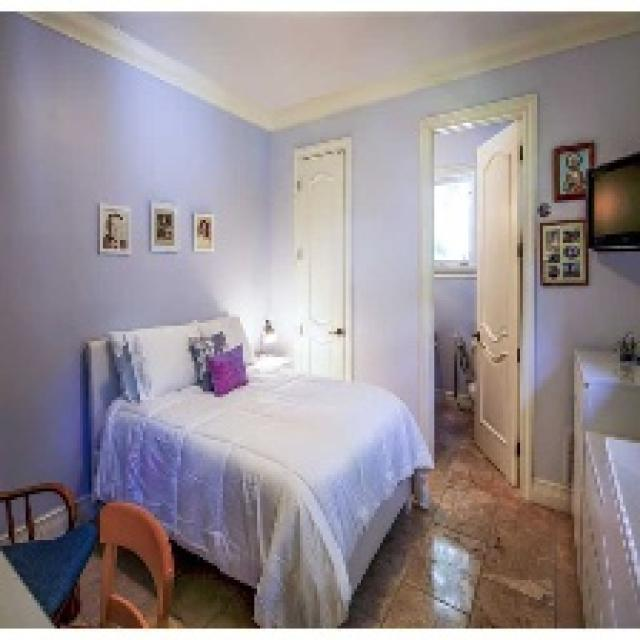Bed: (83, 314, 431, 626)
